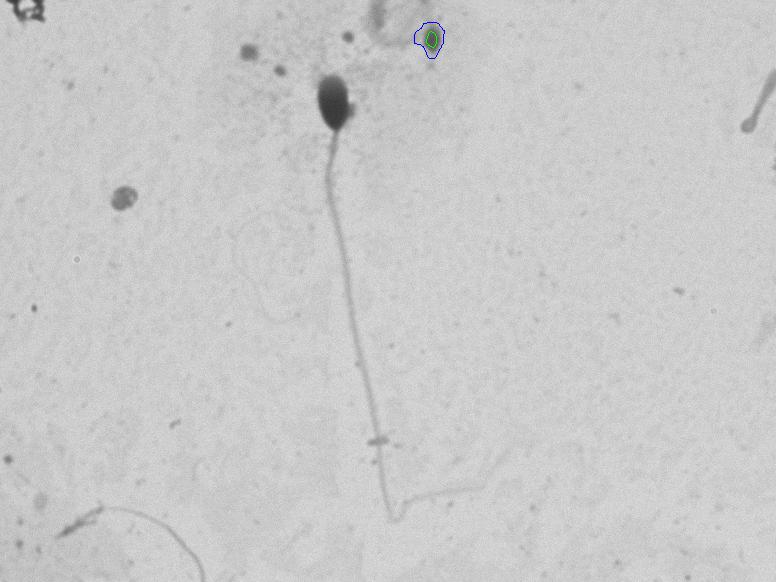Normal: (240, 54, 503, 516)
